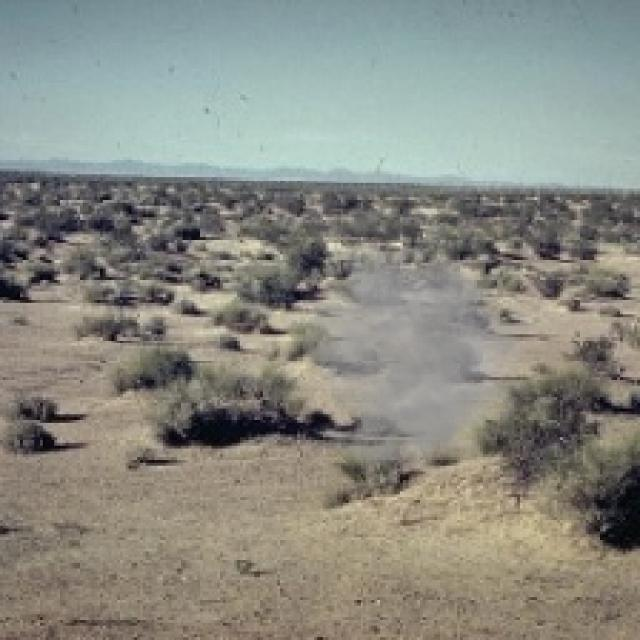smoke: (294, 243, 537, 486)
